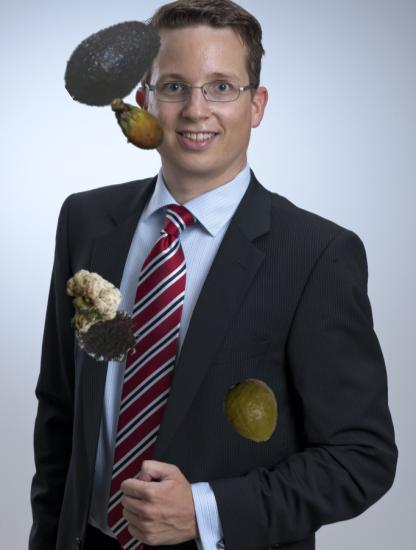Avocado: (60, 10, 167, 117)
Cactus: (104, 89, 171, 156)
Cauliflower: (58, 272, 120, 334)
Guava: (221, 379, 286, 444)
Rambutan: (72, 300, 142, 370)
